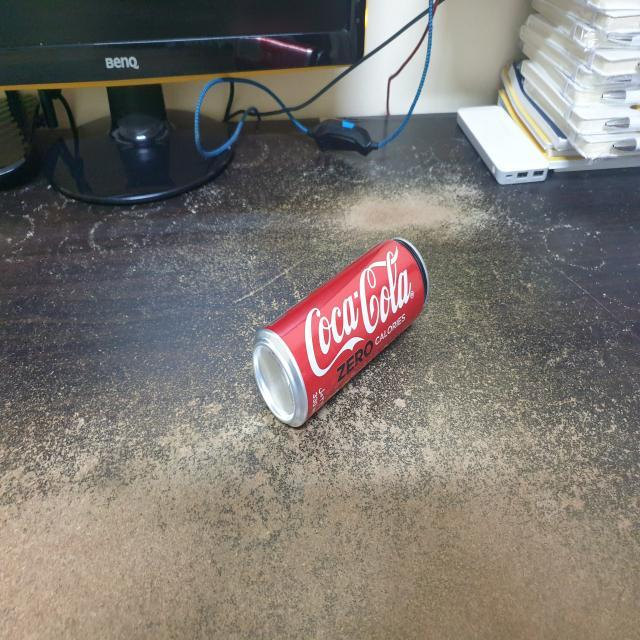can: (248, 233, 437, 433)
